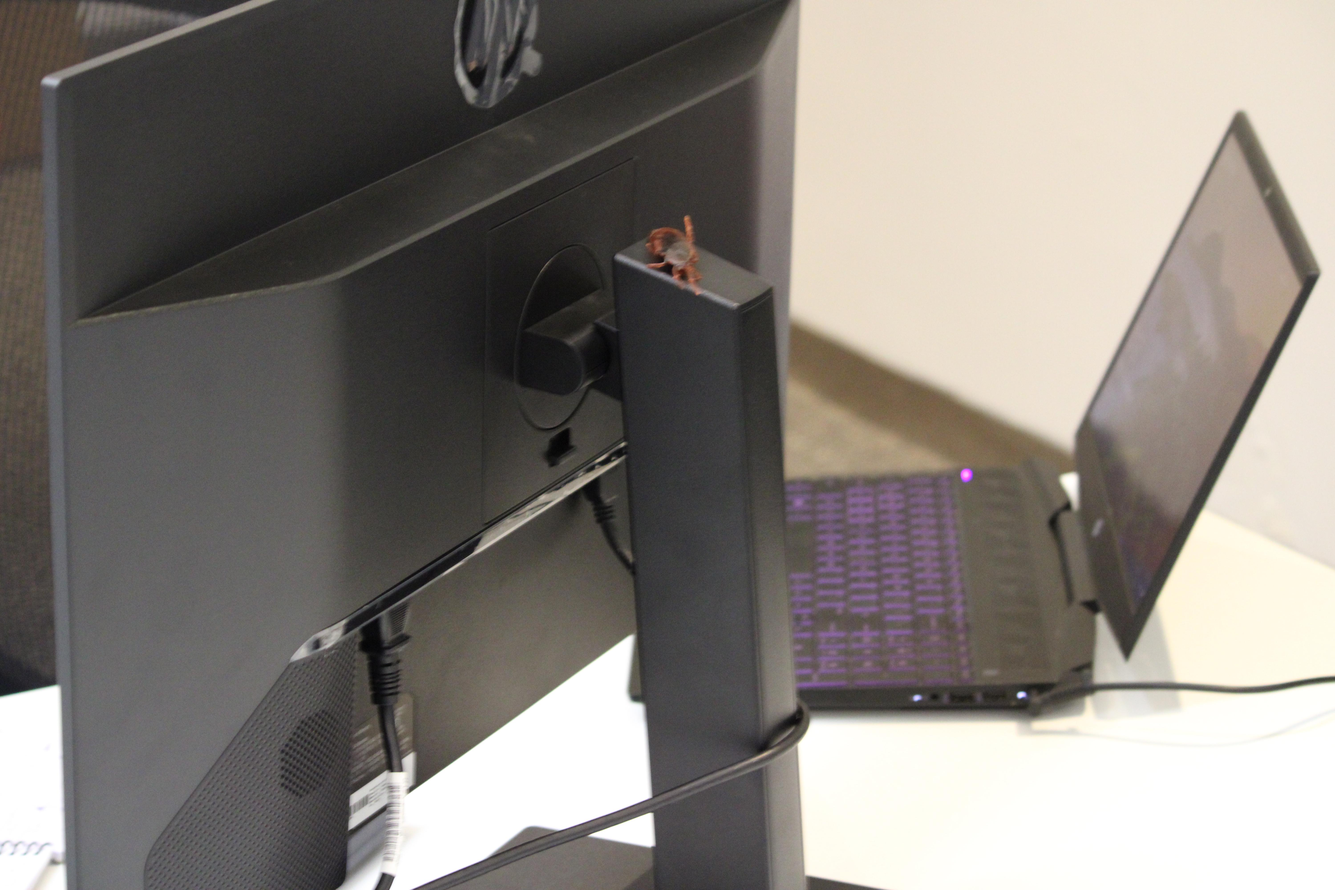cockroach: (628, 210, 709, 285)
